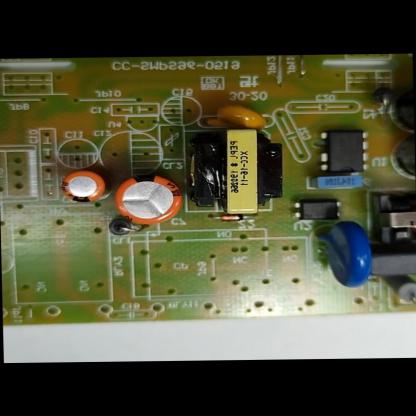Cap1: (110, 172, 188, 226)
Cap2: (58, 166, 114, 204)
Cap3: (391, 131, 415, 184)
Cap4: (386, 79, 414, 135)
MOSFET: (313, 125, 373, 179)
Mov: (316, 214, 378, 293)
Resistor: (378, 272, 416, 303)
Transformer: (180, 124, 285, 218), (365, 188, 415, 254)
